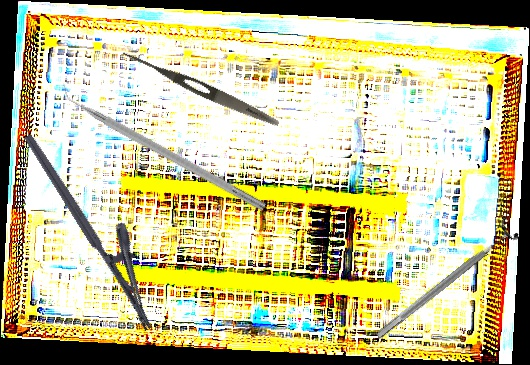Chopper: (55, 77, 273, 212)
Dressing Forceps: (118, 46, 282, 131)
Fixation Ring: (368, 216, 522, 347)
Needle Holder: (23, 116, 179, 333)
